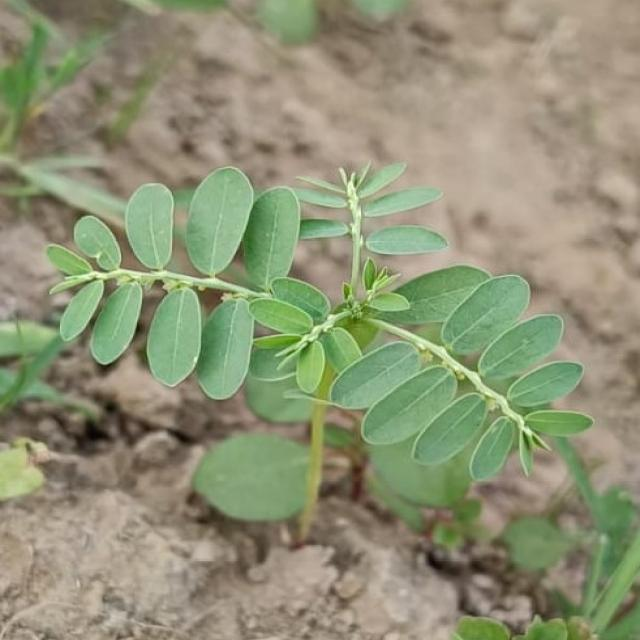plant: (46, 164, 589, 531)
